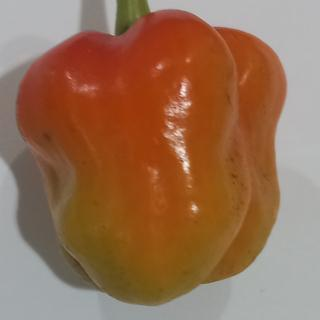Grade-A: (13, 4, 294, 310)
